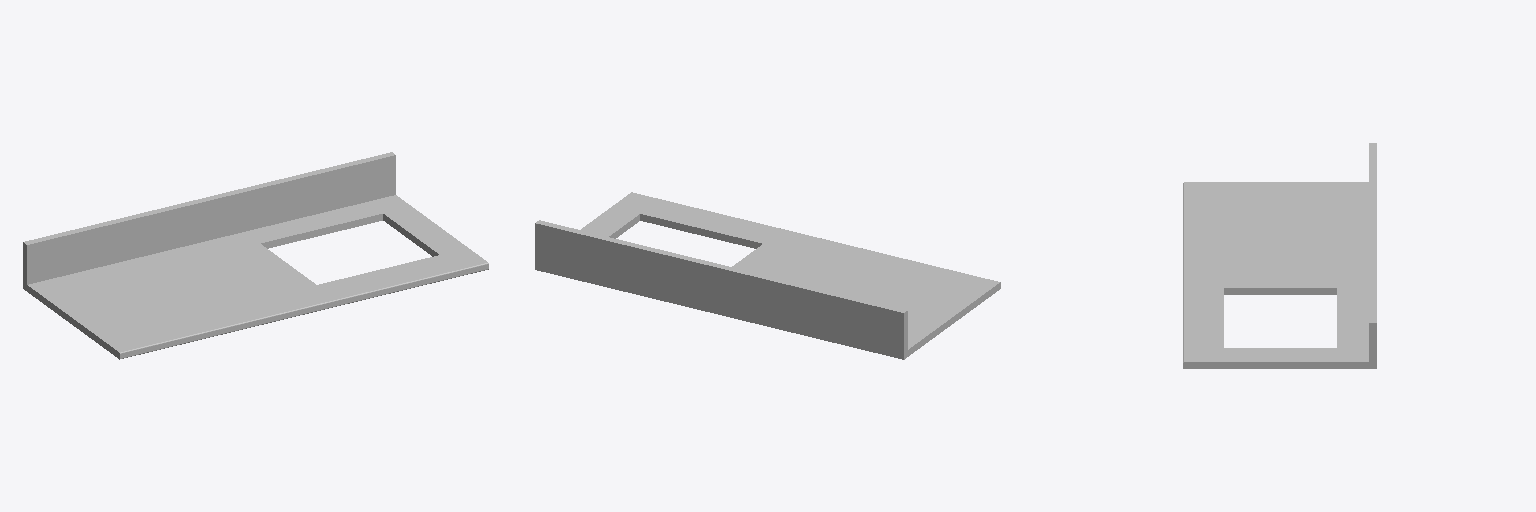
Rendered from counter_top.obj.
3 views of the same model, side by side, from view 1: azimuth 30°, elevation 25°; view 2: azimuth 150°, elevation 25°; view 3: azimuth 270°, elevation 25° (orthographic).
Visible parts, largest first — view 1: Countertop_Cube.003; view 2: Countertop_Cube.003; view 3: Countertop_Cube.003.
Boxes of the visible parts, <box> form: Countertop_Cube.003: <box>23,152,488,359</box>; Countertop_Cube.003: <box>535,192,1000,359</box>; Countertop_Cube.003: <box>1183,143,1376,368</box>.
Bounding box in the file's own units: 3.5 × 0.4239 × 1.6.